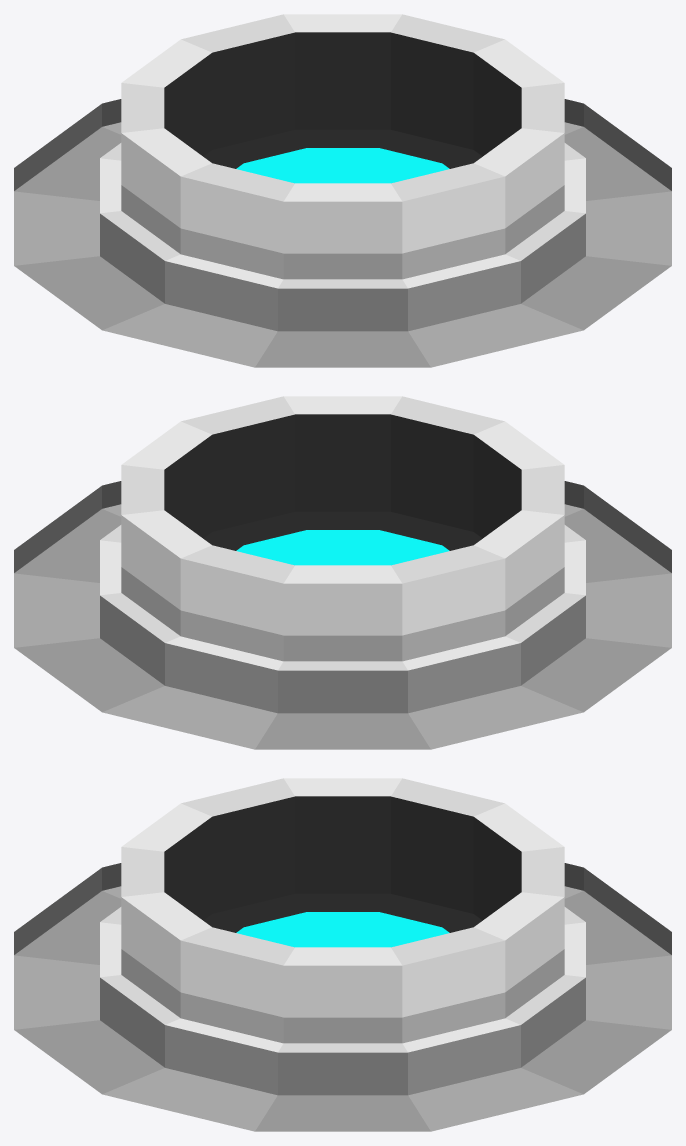
Rendered from earth_ground.glb.
The picture shows the model from 3 angles, top to bottom: view 1: azimuth 30°, elevation 25°; view 2: azimuth 150°, elevation 25°; view 3: azimuth 270°, elevation 25°; orthographic projection.
Visible parts, largest first — view 1: earth_ground; view 2: earth_ground; view 3: earth_ground.
Boxes of the visible parts, x1=… form: earth_ground: x1=14, y1=14, x2=671, y2=367; earth_ground: x1=14, y1=396, x2=671, y2=749; earth_ground: x1=14, y1=778, x2=671, y2=1131.
Size of the model in its own units: 15.32 by 3.1 by 15.32.
Materials: 1 (1 with a texture image).
